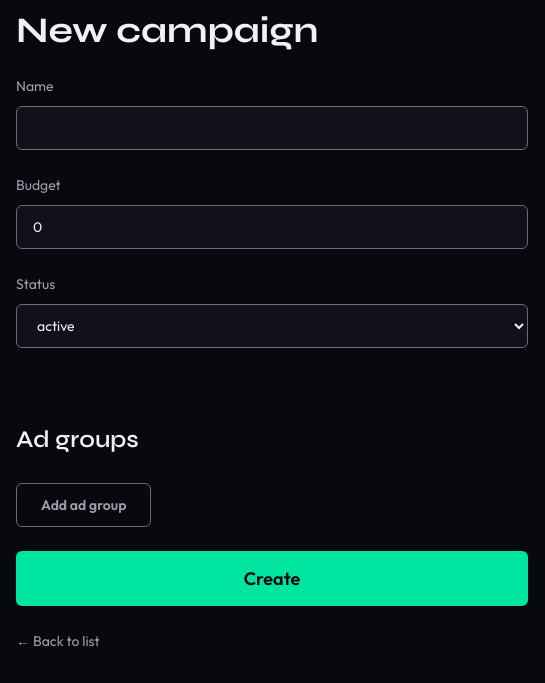
Test: CampaignNewPage ad groups section › removes an ad group when Delete ad group is clicked
The image size is (545, 683).
Step 1. Click the button with test id "add-ad-group" → click(84, 506), box [16,484,151,528]
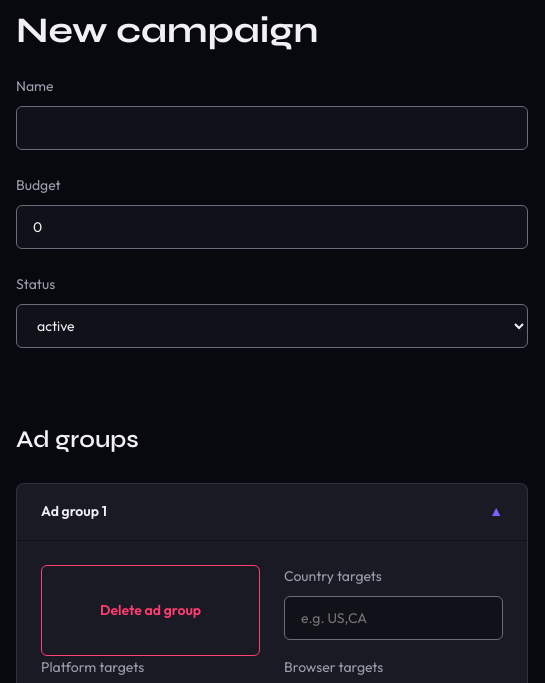
Step 2. Click the button with test id "ad-group-delete" → click(150, 610), box [41,565,260,656]
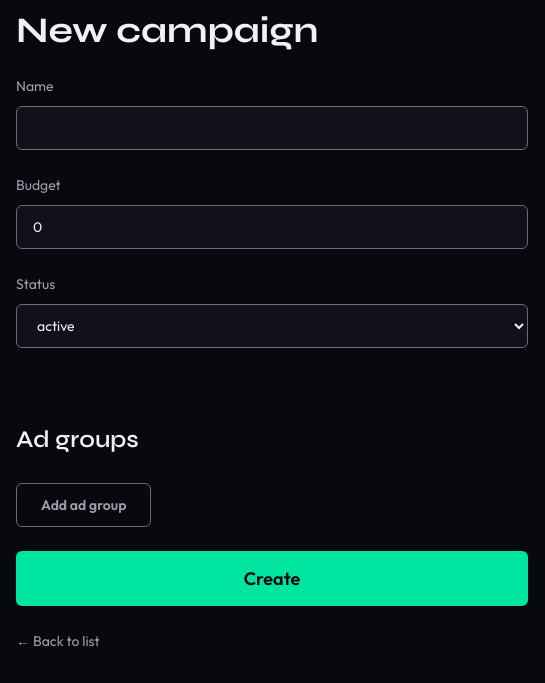
Check: no elements with test id "ad-group-block" are shown
